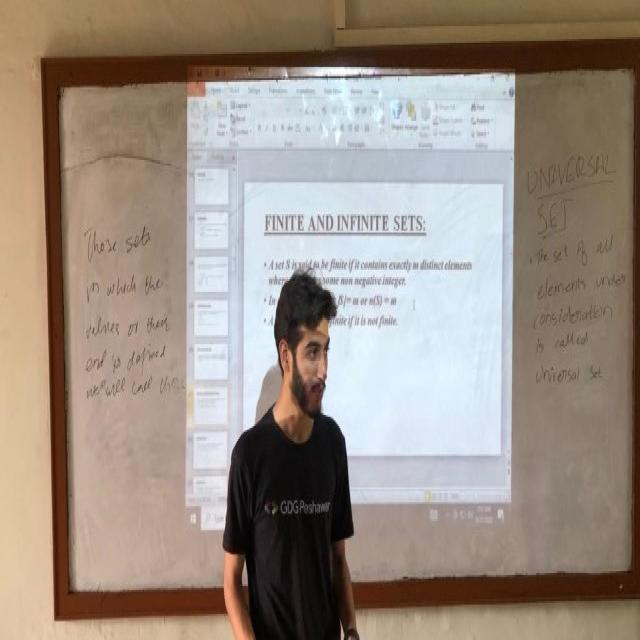Instructor: (225, 264, 350, 640)
Slide: (185, 72, 514, 542)
White-board: (50, 57, 639, 611)
